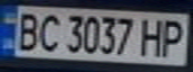0: (81, 12, 100, 55)
3: (60, 11, 84, 54), (100, 13, 121, 55)
7: (115, 15, 139, 56)
B: (9, 9, 42, 52)
C: (33, 11, 63, 53)
H: (136, 15, 169, 57)
P: (157, 16, 190, 57)
